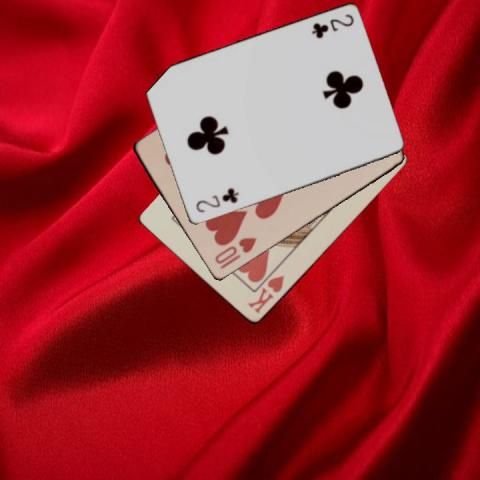10h: (211, 235, 259, 271)
2c: (192, 185, 241, 215), (309, 11, 355, 38)
Kh: (245, 273, 286, 316)
